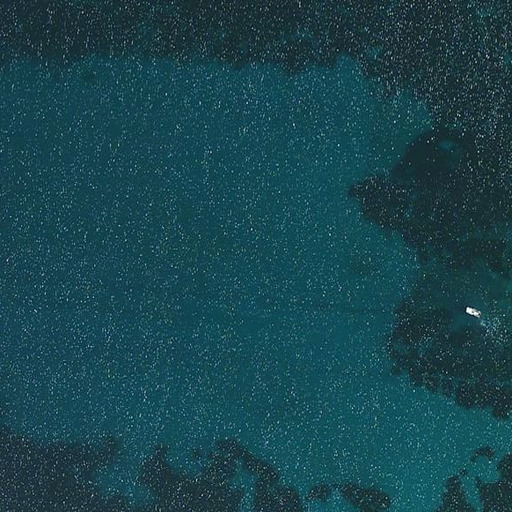ship: (463, 304, 484, 320)
